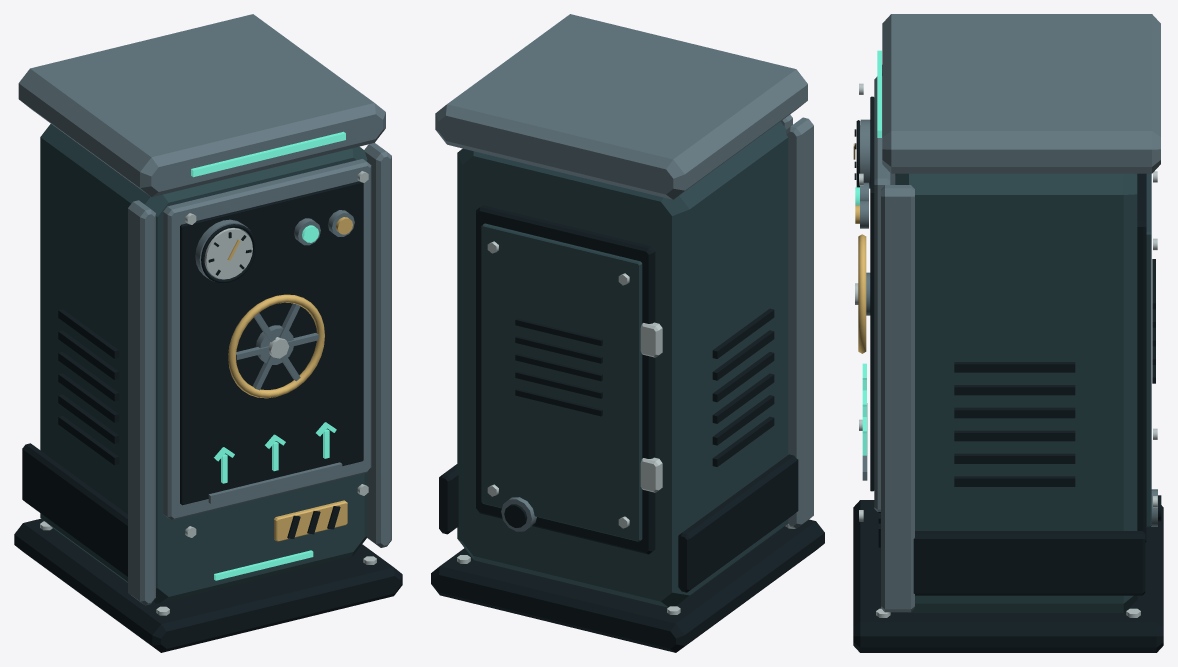
Rendered from vent-console-ev01.glb.
3 renders of one model, left to right at view 1: azimuth 30°, elevation 25°; view 2: azimuth 150°, elevation 25°; view 3: azimuth 270°, elevation 25°, orthographic. The views are drawn at different scales.
Parts seen in each view (by area): view 1: EV01_Visual_EV01_AnodizedFrame, EV01_Visual_EV01_Recesses, EV01_Visual_EV01_CeramicPaint, EV01_Visual_EV01_SafetyMarkings, EV01_Status, EV01_Visual_EV01_MachinedAlloy; view 2: EV01_Visual_EV01_CeramicPaint, EV01_Visual_EV01_AnodizedFrame, EV01_Visual_EV01_Recesses, EV01_Visual_EV01_MachinedAlloy; view 3: EV01_Visual_EV01_CeramicPaint, EV01_Visual_EV01_AnodizedFrame, EV01_Visual_EV01_Recesses, EV01_Visual_EV01_SafetyMarkings, EV01_Status, EV01_Visual_EV01_MachinedAlloy.
Boxes of the visible parts, <box> form: EV01_Visual_EV01_AnodizedFrame: <box>18,14,391,605</box>; EV01_Visual_EV01_Recesses: <box>14,181,402,652</box>; EV01_Visual_EV01_CeramicPaint: <box>40,124,367,603</box>; EV01_Visual_EV01_SafetyMarkings: <box>227,217,352,541</box>; EV01_Status: <box>191,131,345,580</box>; EV01_Visual_EV01_MachinedAlloy: <box>40,171,376,615</box>; EV01_Visual_EV01_CeramicPaint: <box>457,121,788,607</box>; EV01_Visual_EV01_AnodizedFrame: <box>435,14,813,531</box>; EV01_Visual_EV01_Recesses: <box>431,205,824,652</box>; EV01_Visual_EV01_MachinedAlloy: <box>457,241,795,614</box>; EV01_Visual_EV01_CeramicPaint: <box>895,173,1151,612</box>; EV01_Visual_EV01_AnodizedFrame: <box>860,14,1160,612</box>; EV01_Visual_EV01_Recesses: <box>853,96,1163,652</box>; EV01_Visual_EV01_SafetyMarkings: <box>853,143,866,353</box>; EV01_Status: <box>855,50,881,455</box>; EV01_Visual_EV01_MachinedAlloy: <box>855,83,1157,617</box>.
Bounding box in the file's own units: 0.594 × 1.09 × 0.59.
